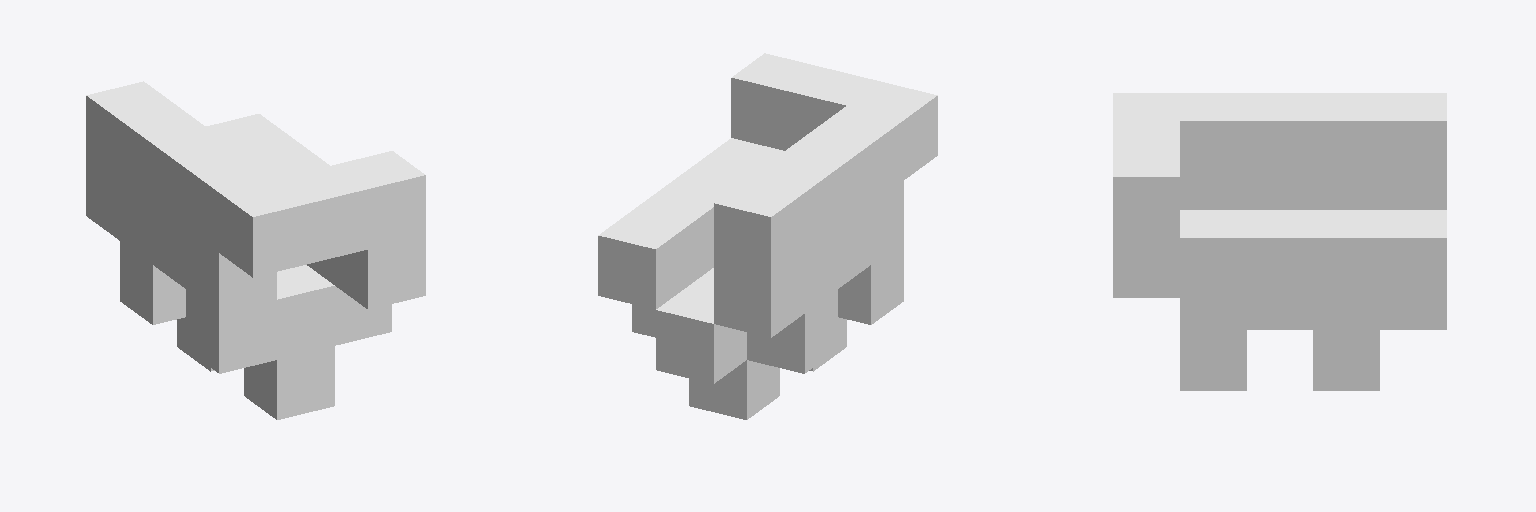
File: Arm-32.obj
3 views of the same model, side by side, from view 1: azimuth 30°, elevation 25°; view 2: azimuth 150°, elevation 25°; view 3: azimuth 270°, elevation 25° (orthographic).
Parts seen in each view (by area): view 1: object 1; view 2: object 1; view 3: object 1.
Boxes of the visible parts, <box> form: object 1: <box>86,81,425,419</box>; object 1: <box>598,53,937,419</box>; object 1: <box>1113,93,1446,390</box>.
Bounding box in the file's own units: 0.3 × 0.4 × 0.5.